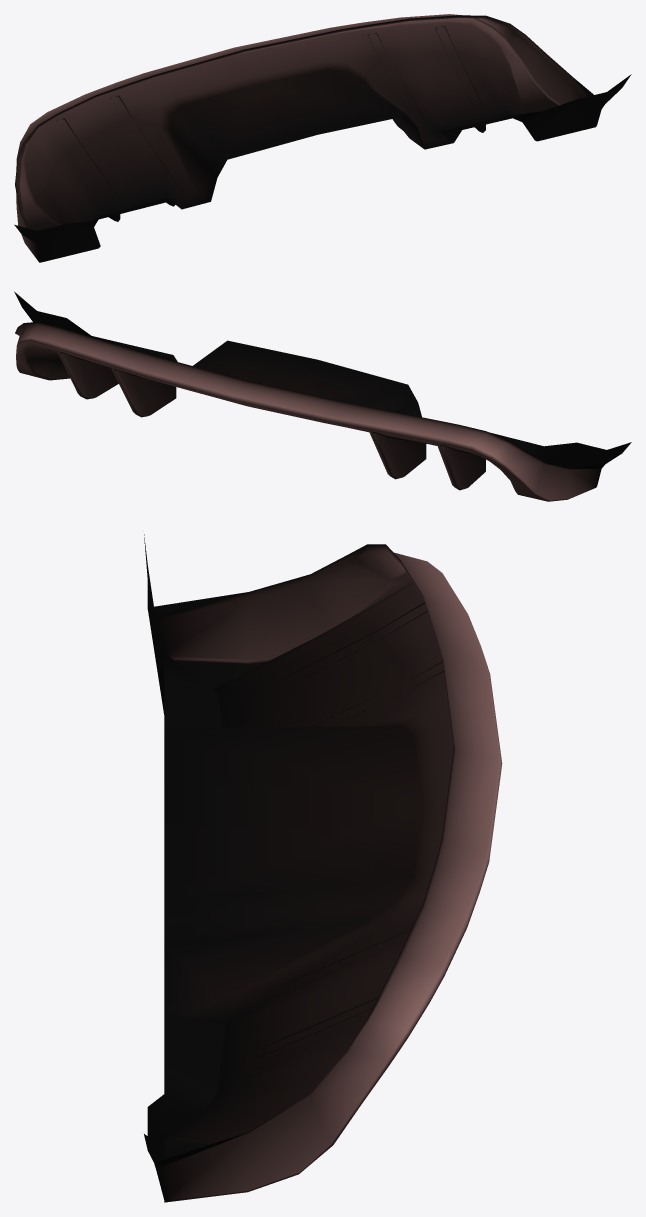
Rendered from Zr1_RB_03_Trim.fbx.
3 renders of one model, top to bottom at view 1: azimuth 30°, elevation 25°; view 2: azimuth 150°, elevation 25°; view 3: azimuth 270°, elevation 25°, orthographic. The views are drawn at different scales.
Visible parts, largest first — view 1: Zr1_RB_03_Trim; view 2: Zr1_RB_03_Trim; view 3: Zr1_RB_03_Trim.
Part boxes in pixels (bbox=[...]): Zr1_RB_03_Trim: bbox=[14, 14, 631, 262]; Zr1_RB_03_Trim: bbox=[14, 291, 631, 501]; Zr1_RB_03_Trim: bbox=[144, 534, 502, 1202].
Size of the model in its own units: 173 by 24.89 by 43.58.
